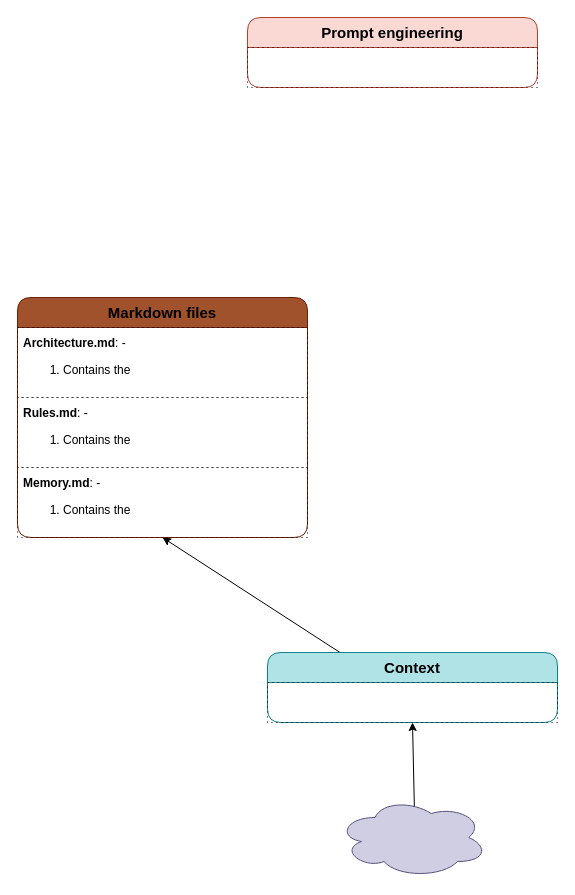
The diagram is 575 pixels wide and 895 high, and some of its shapes have lost their labels. Here are the shapes that lost their labels. From the top down, the centre of each, then its label:
(392,67): This flow charts contain, the prompts, rules to make the AI Smart
(412,702): Context that we should provide to the AI, for better output
(412,837): AI Agent
